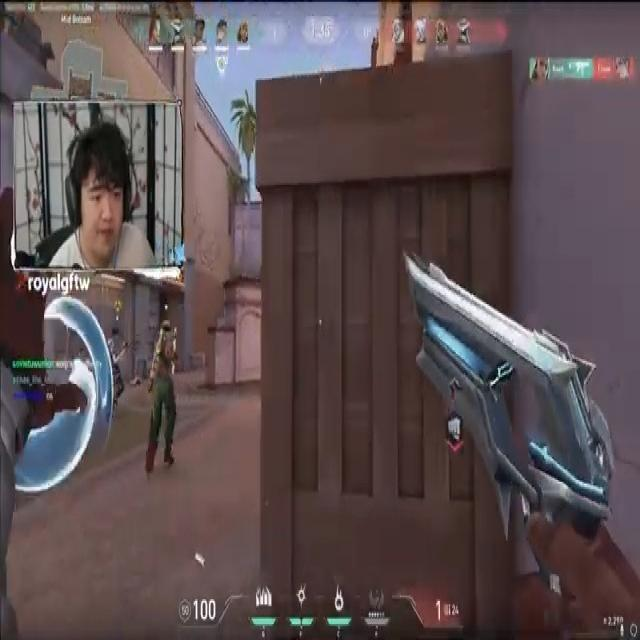ally: (145, 317, 176, 468)
